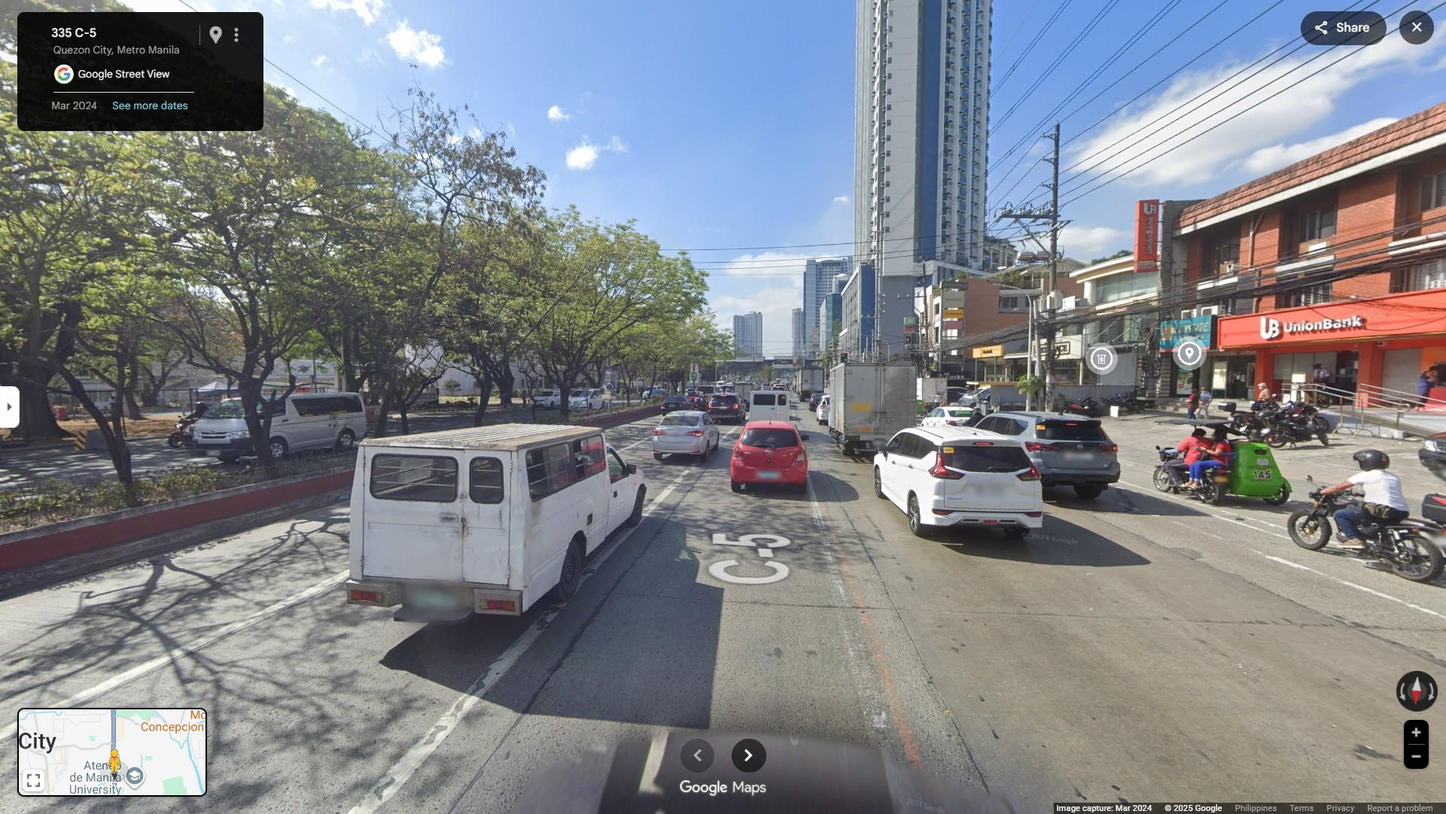pedestrian: (1310, 363, 1331, 407), (1195, 386, 1213, 423), (1255, 382, 1271, 418), (1185, 387, 1199, 424)
